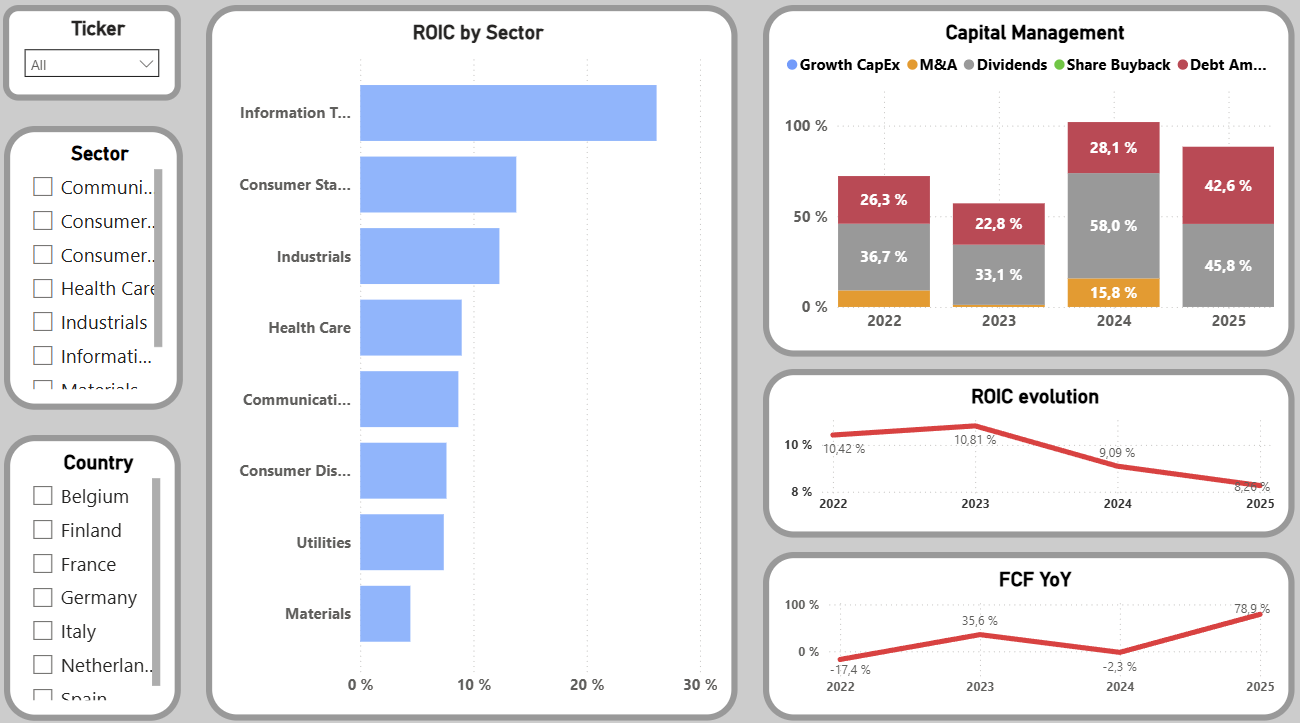

This screenshot's page, from the dashboard's own definition file:
{"tool":"powerbi","page":{"name":"Quality & Capital Management","canvas":[1280,720],"ordinal":1},"visuals":[{"type":"clusteredBarChart","fields":{"Category":["vw_equity_analytics.sector","vw_equity_analytics.ticker_key"],"Y":["Median(vw_equity_analytics.roic)"]},"box":[209.1,11.7,517.4,696.4],"z":0},{"type":"lineChart","title":"ROIC evolution","fields":{"Y":["Median(vw_equity_analytics.roic)"],"Category":["vw_equity_analytics.fiscal_date.Variation.Date Hierarchy.Year"]},"box":[750.9,365.7,517.4,164.4],"z":1000},{"type":"columnChart","title":"Capital Management","fields":{"Category":["vw_equity_analytics.fiscal_date.Variation.Date Hierarchy.Year"],"Y":["Median(vw_equity_analytics.prc_growth_capex)","Median(vw_equity_analytics.prc_m_and_a)","Median(vw_equity_analytics.prc_dividends)","Median(vw_equity_analytics.prc_buybacks)","Median(vw_equity_analytics.prc_debt_repayment)"]},"box":[750.9,11.7,517.4,342.4],"z":2000},{"type":"lineChart","title":"FCF YoY","fields":{"Category":["vw_equity_analytics.fiscal_date.Variation.Date Hierarchy.Year"],"Y":["Median(vw_equity_analytics.fcf_yoy)"]},"box":[750.9,543.7,517.4,164.4],"z":3000},{"type":"slicer","title":"Sector","fields":{"Values":["vw_equity_analytics.sector"]},"box":[12.6,129.4,174.1,276.2],"z":3001},{"type":"slicer","title":"Country","fields":{"Values":["vw_equity_analytics.location"]},"box":[12.6,429.9,172.2,278.2],"z":3002},{"type":"slicer","title":"Ticker","fields":{"Values":["vw_equity_analytics.ticker_key"]},"box":[11.7,11.7,173.1,93.4],"z":3003}]}

Visuals, with their boxes in screenshot pixels (x1, y1, x2, y2), scaled from the page's 1280x720 canvas onto the 1300x723 screenshot:
clusteredBarChart - vw_equity_analytics.sector x vw_equity_analytics.ticker_key: left=212, top=12, right=738, bottom=711
"ROIC evolution" lineChart: left=763, top=367, right=1288, bottom=532
"Capital Management" columnChart: left=763, top=12, right=1288, bottom=356
"FCF YoY" lineChart: left=763, top=546, right=1288, bottom=711
"Sector" slicer: left=13, top=130, right=190, bottom=407
"Country" slicer: left=13, top=432, right=188, bottom=711
"Ticker" slicer: left=12, top=12, right=188, bottom=106
